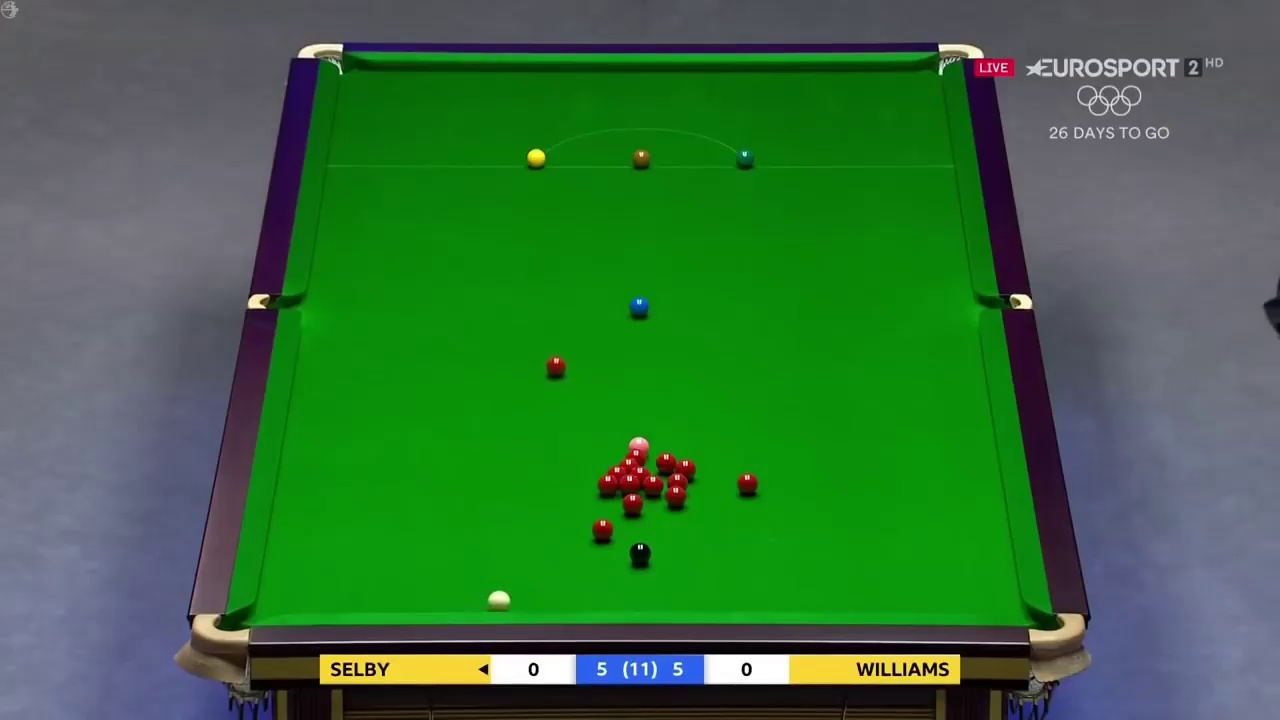black: (628, 543, 653, 562)
blue: (629, 298, 650, 319)
brown: (631, 149, 651, 168)
green: (735, 150, 755, 170)
red: (593, 518, 616, 542), (662, 486, 687, 508), (619, 472, 640, 496), (597, 474, 619, 495), (738, 472, 759, 494), (546, 357, 567, 377), (654, 451, 676, 470), (621, 495, 641, 513)
yellow: (525, 149, 547, 168)
